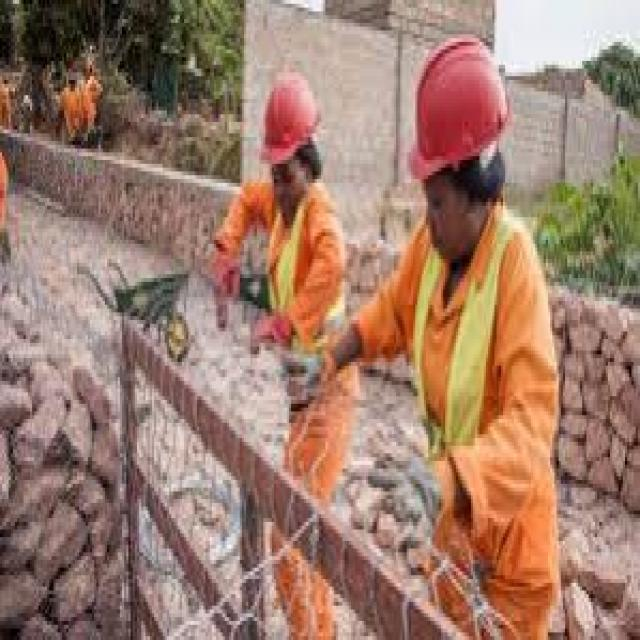Reflective-Jacket: (388, 214, 568, 572), (218, 175, 358, 370)
Safety-Helmet: (396, 27, 522, 198), (250, 57, 330, 179)
